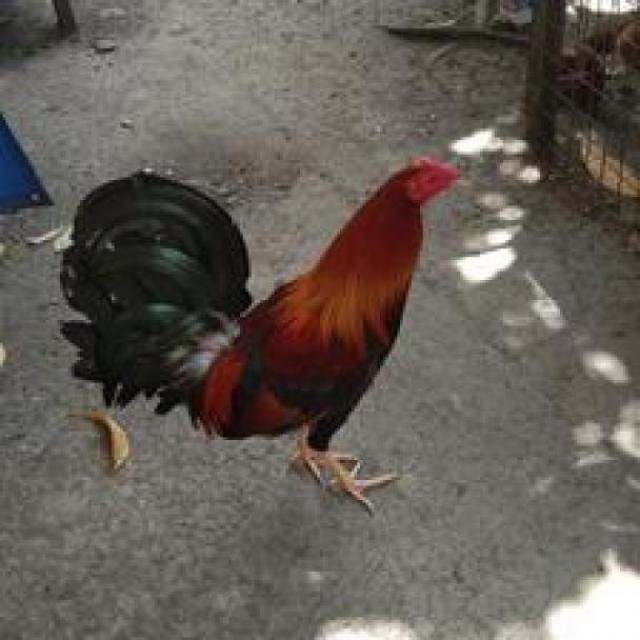Chicken: (54, 148, 486, 535)
